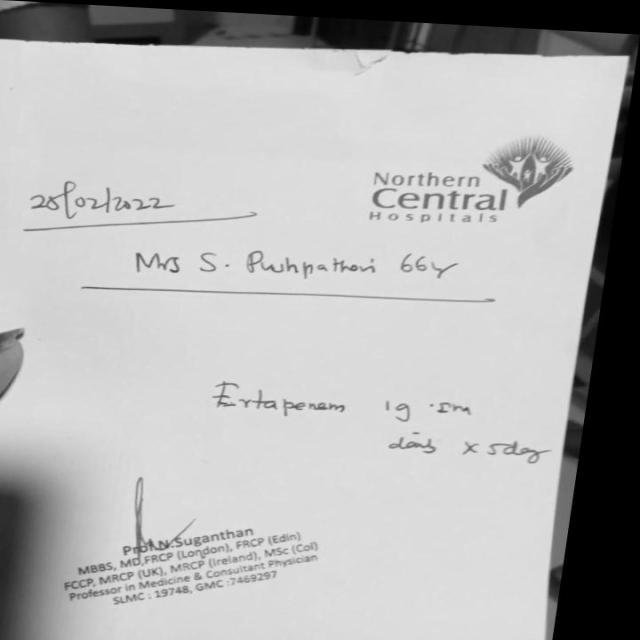Prescription: (212, 376, 558, 459)
